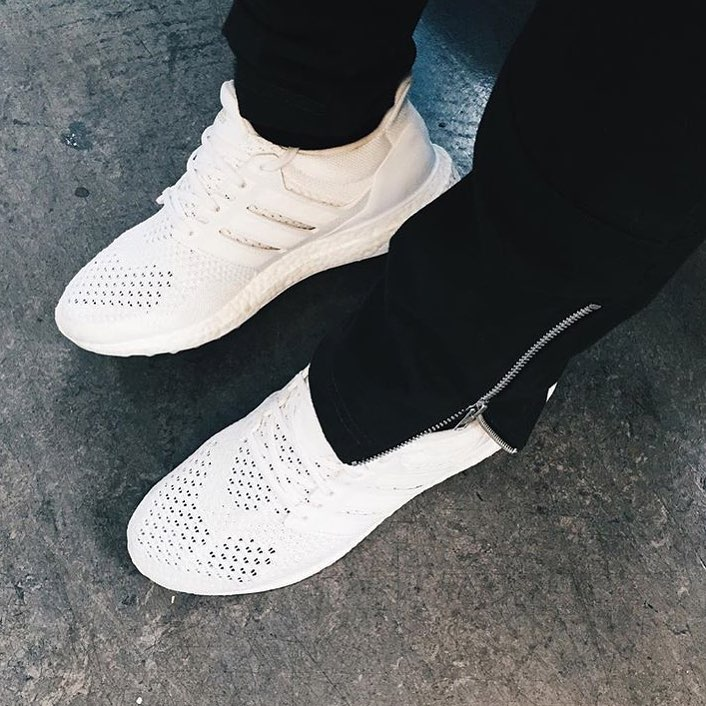sneaker: (33, 57, 468, 384), (113, 308, 541, 620)
